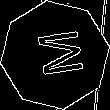M_W: (27, 28, 83, 82)
